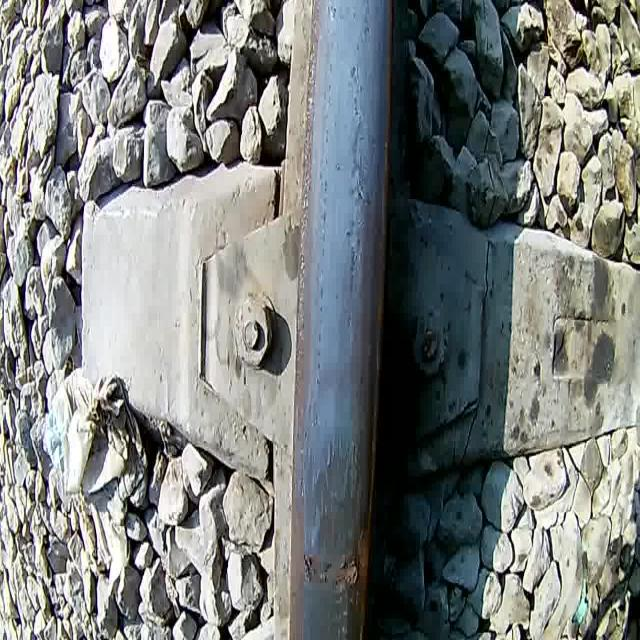Spallings: (294, 543, 372, 593)
Squats: (307, 424, 368, 557)
